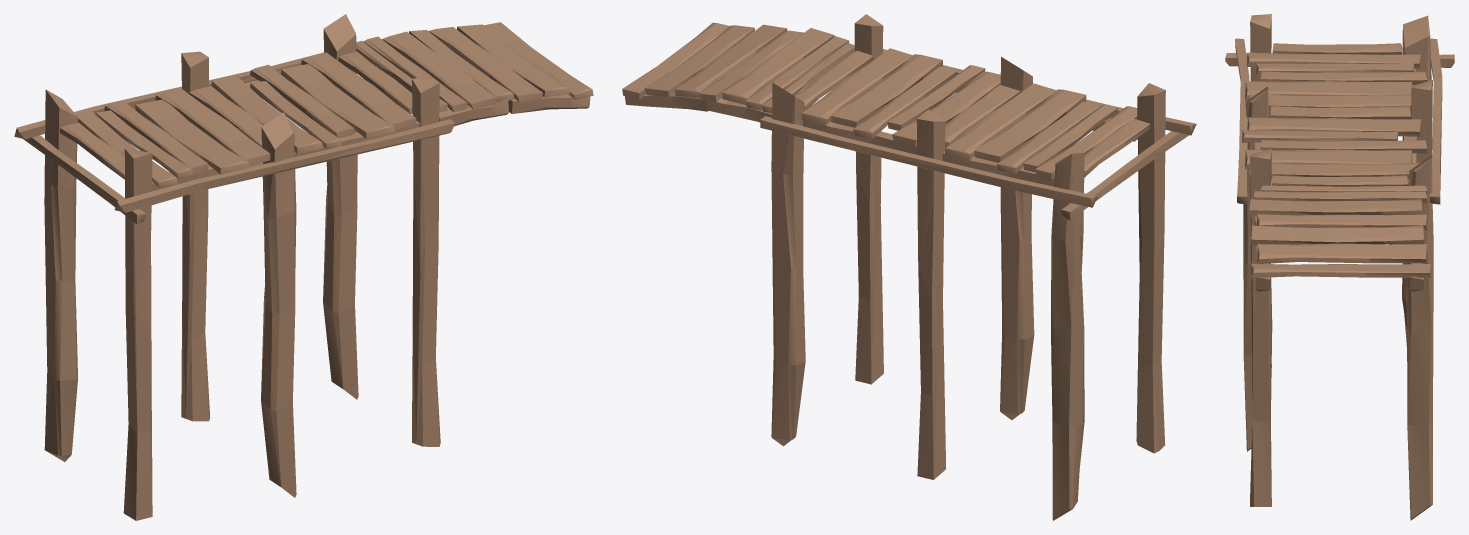
File: BridgePontoon_LOD1.fbx
The picture shows the model from 3 angles, left to right: view 1: azimuth 30°, elevation 25°; view 2: azimuth 150°, elevation 25°; view 3: azimuth 270°, elevation 25°; orthographic projection. The views are drawn at different scales.
Parts seen in each view (by area): view 1: bridge_pontoon_01.001; view 2: bridge_pontoon_01.001; view 3: bridge_pontoon_01.001.
Boxes of the visible parts, x1,y1,x2,y2 form: bridge_pontoon_01.001: [14, 14, 593, 520]; bridge_pontoon_01.001: [622, 14, 1196, 520]; bridge_pontoon_01.001: [1225, 14, 1454, 520].
Size of what is drawn, in the model's own units: 4.21 by 3.15 by 1.8.
